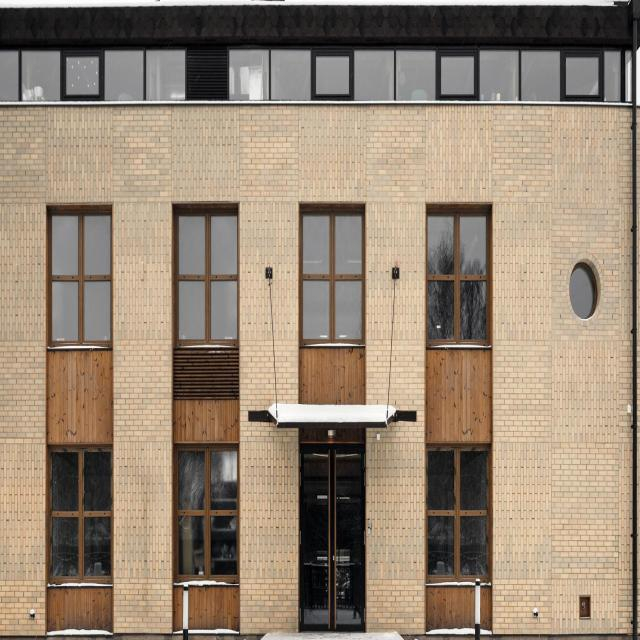door: (301, 440, 367, 632)
window: (0, 49, 635, 101), (426, 200, 493, 347), (424, 442, 492, 583), (173, 206, 239, 346), (173, 442, 240, 576), (300, 207, 364, 346), (48, 206, 110, 346), (51, 449, 111, 583), (569, 266, 597, 314)
